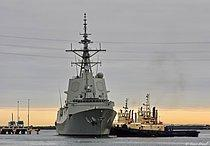MIL_Ship: (54, 13, 116, 135)
